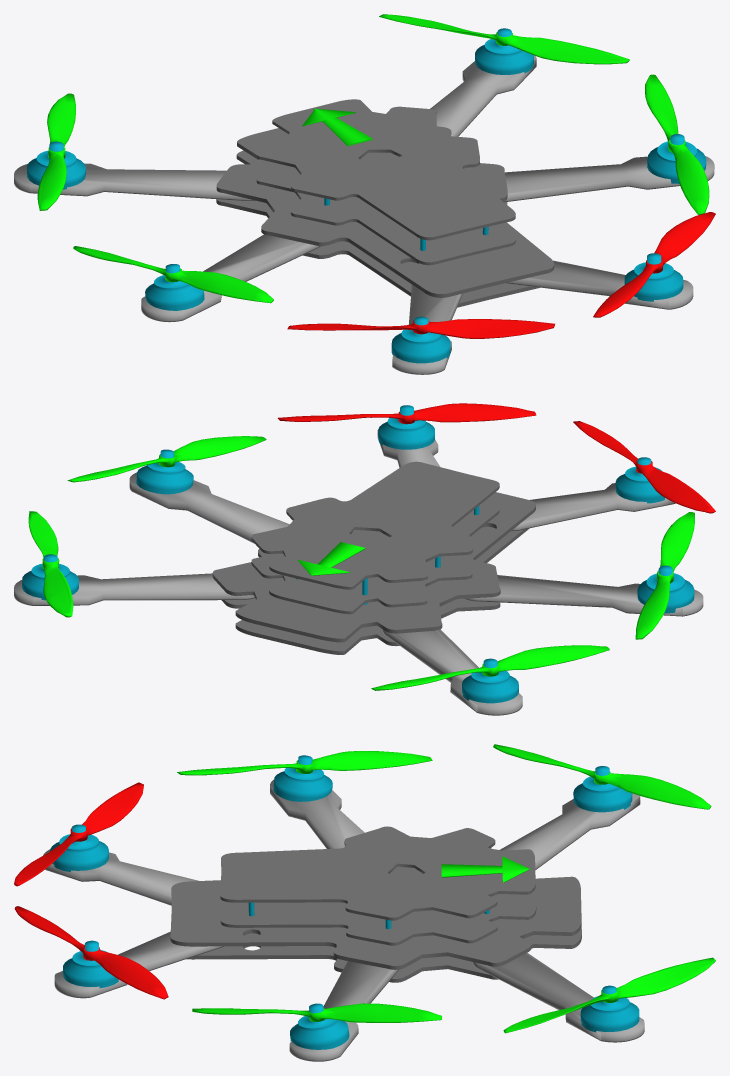
File: hex_x.gltf
3 renders of one model, top to bottom at view 1: azimuth 30°, elevation 25°; view 2: azimuth 150°, elevation 25°; view 3: azimuth 270°, elevation 25°, orthographic. The views are drawn at different scales.
Parts seen in each view (by area): view 1: hex_x; view 2: hex_x; view 3: hex_x.
Boxes of the visible parts, x1=… form: hex_x: x1=14, y1=14, x2=715, y2=374; hex_x: x1=14, y1=403, x2=715, y2=715; hex_x: x1=14, y1=744, x2=715, y2=1061.
Size of the model in its own units: 0.9775 by 0.0921 by 0.9959.
